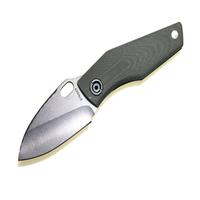knife: (13, 20, 183, 166)
